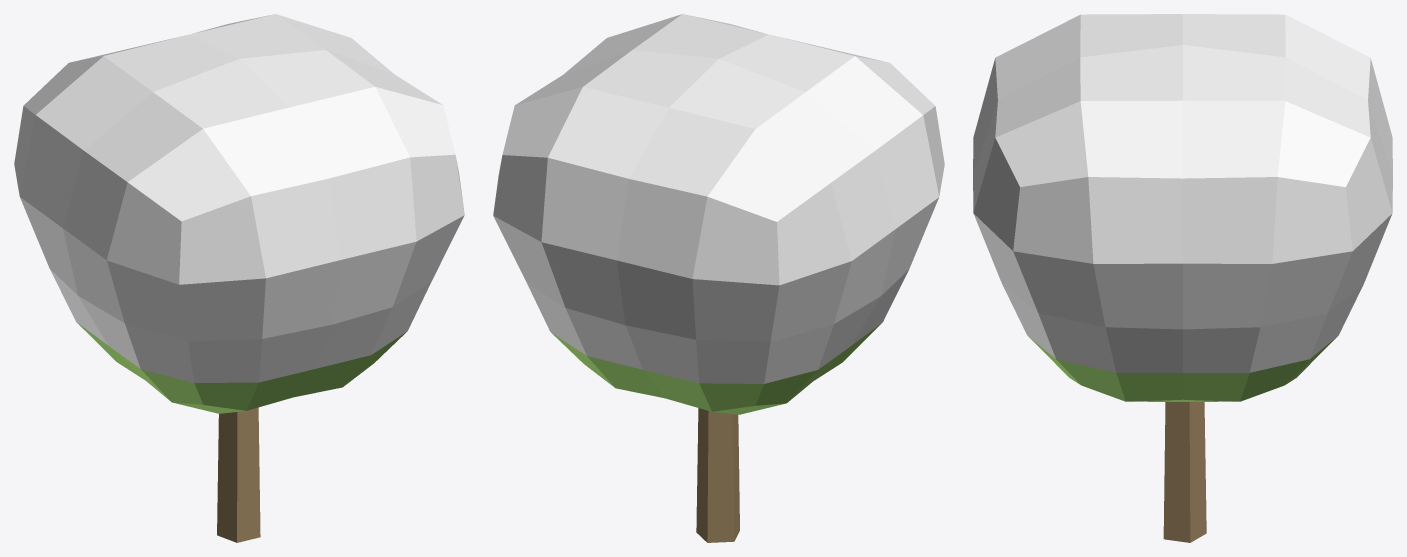
The model's file is Thuja_Tree_s_Snow_07.fbx.
3 views of the same model, side by side, from view 1: azimuth 30°, elevation 25°; view 2: azimuth 150°, elevation 25°; view 3: azimuth 270°, elevation 25° (orthographic). The views are drawn at different scales.
Visible parts, largest first — view 1: Thuja_Tree_s_Snow_07; view 2: Thuja_Tree_s_Snow_07; view 3: Thuja_Tree_s_Snow_07.
Boxes of the visible parts, x1=… form: Thuja_Tree_s_Snow_07: x1=14, y1=14, x2=464, y2=542; Thuja_Tree_s_Snow_07: x1=493, y1=14, x2=944, y2=542; Thuja_Tree_s_Snow_07: x1=973, y1=14, x2=1392, y2=542.
Size of the model in its own units: 197 by 253 by 197.
